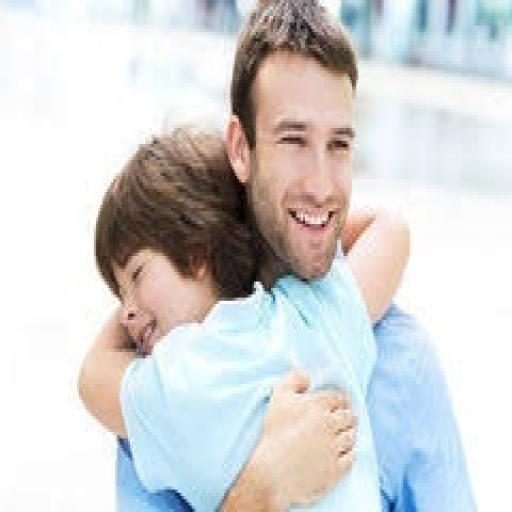hugging: (77, 0, 478, 509)
